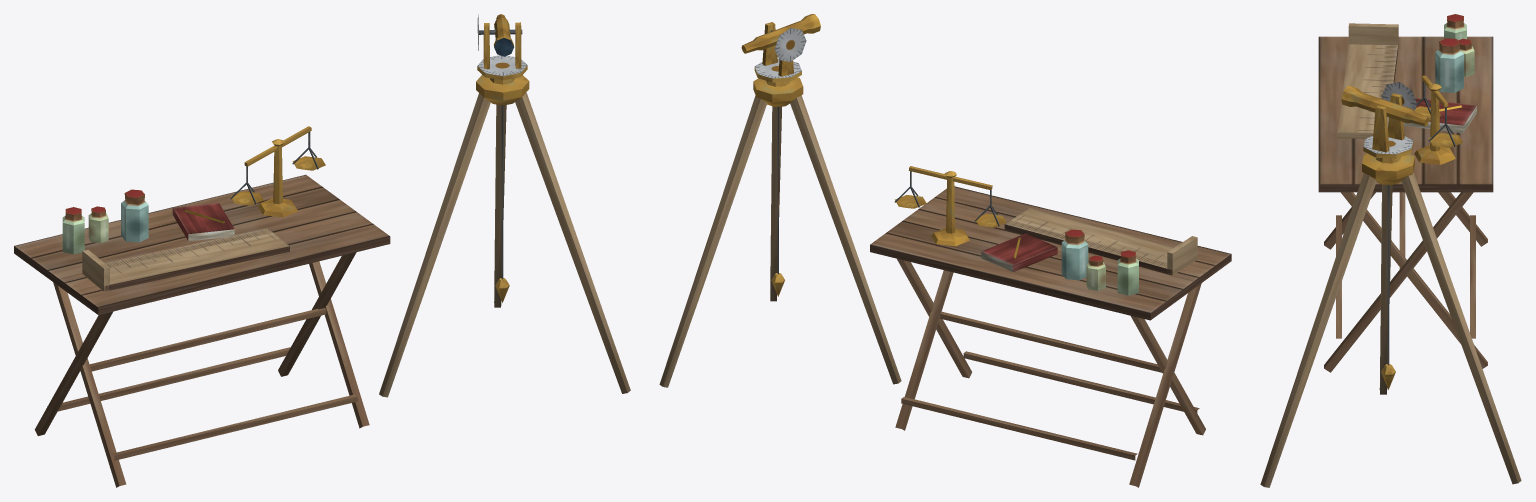
The model's file is field-kit.glb.
3 views of the same model, side by side, from view 1: azimuth 30°, elevation 25°; view 2: azimuth 150°, elevation 25°; view 3: azimuth 270°, elevation 25° (orthographic). The views are drawn at different scales.
Visible parts, largest first — view 1: field-kit; view 2: field-kit; view 3: field-kit.
Boxes of the visible parts, x1,y1,x2,y2 form: field-kit: [14, 14, 630, 487]; field-kit: [659, 14, 1231, 487]; field-kit: [1260, 14, 1521, 487].
Size of the model in its own units: 2.08 by 1.38 by 0.8968.
1 material, 1 textured.
